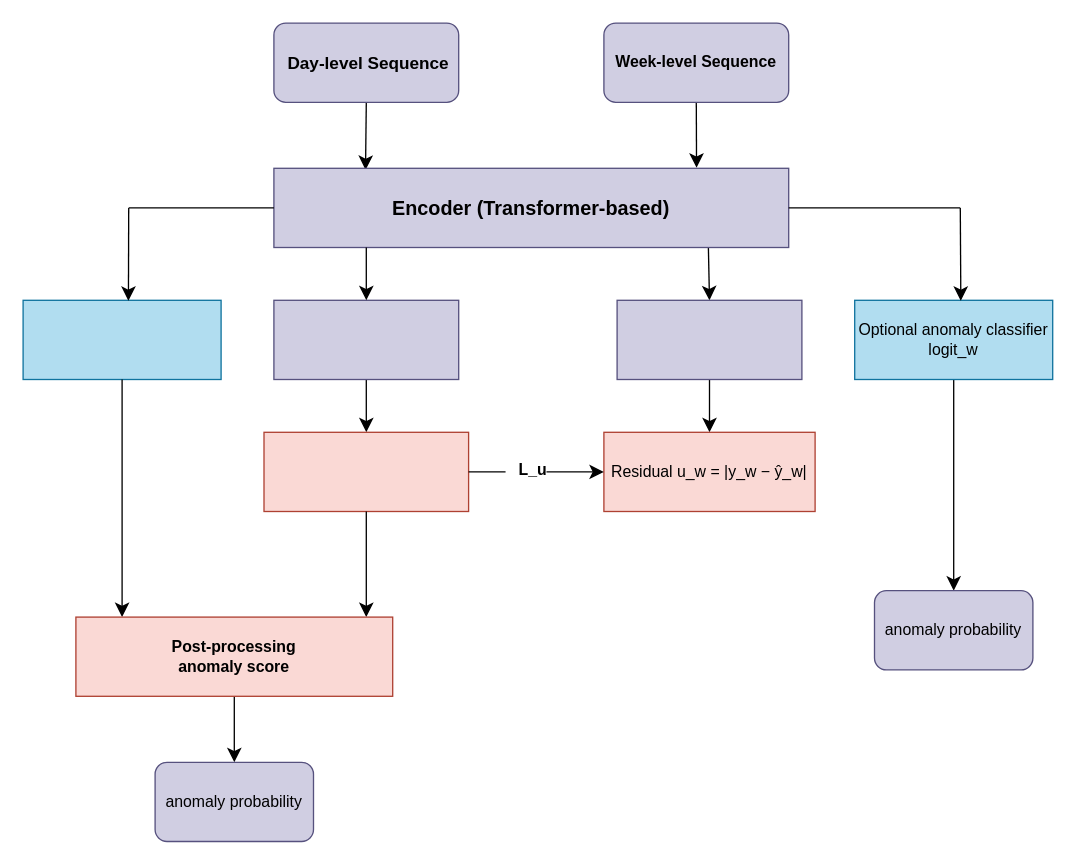
This 1076x865 diagram has some shape labels left out. The centre of each missing label's shape, as x and y in pixels:
"Optional anomaly classifier logit_d" goes at (121,339).
"Prediction Head ŷ_d" goes at (366,339).
"Prediction Head ŷ_w" goes at (709,339).
"Residual u_d = |y_d − ŷ_d|" goes at (366,471).
